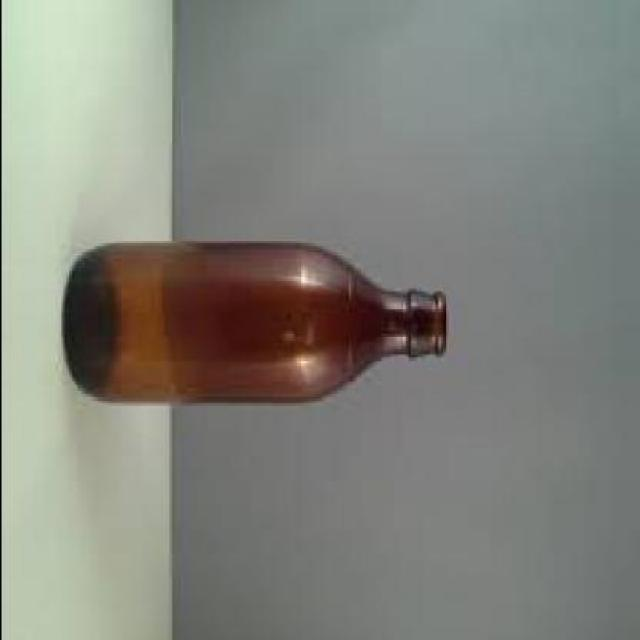GLASS: (62, 240, 447, 400)
